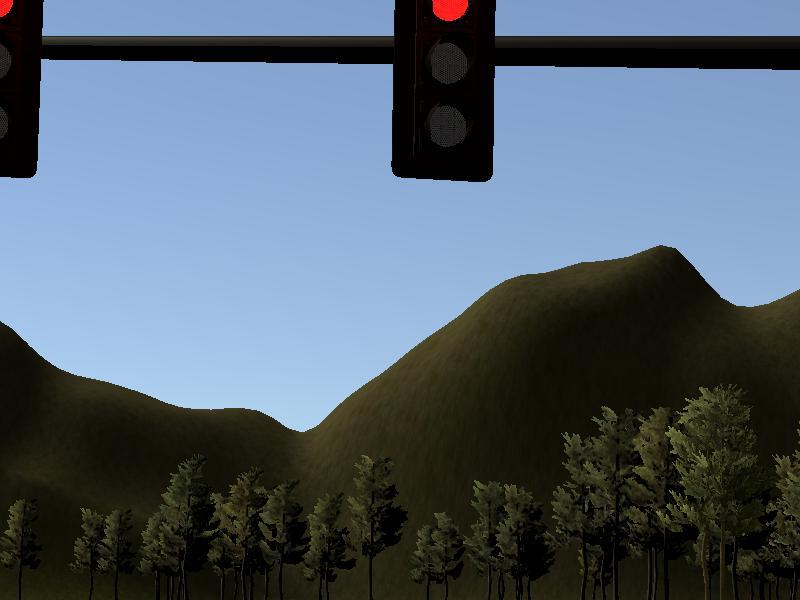Red: (395, 1, 493, 179), (1, 1, 40, 176)
